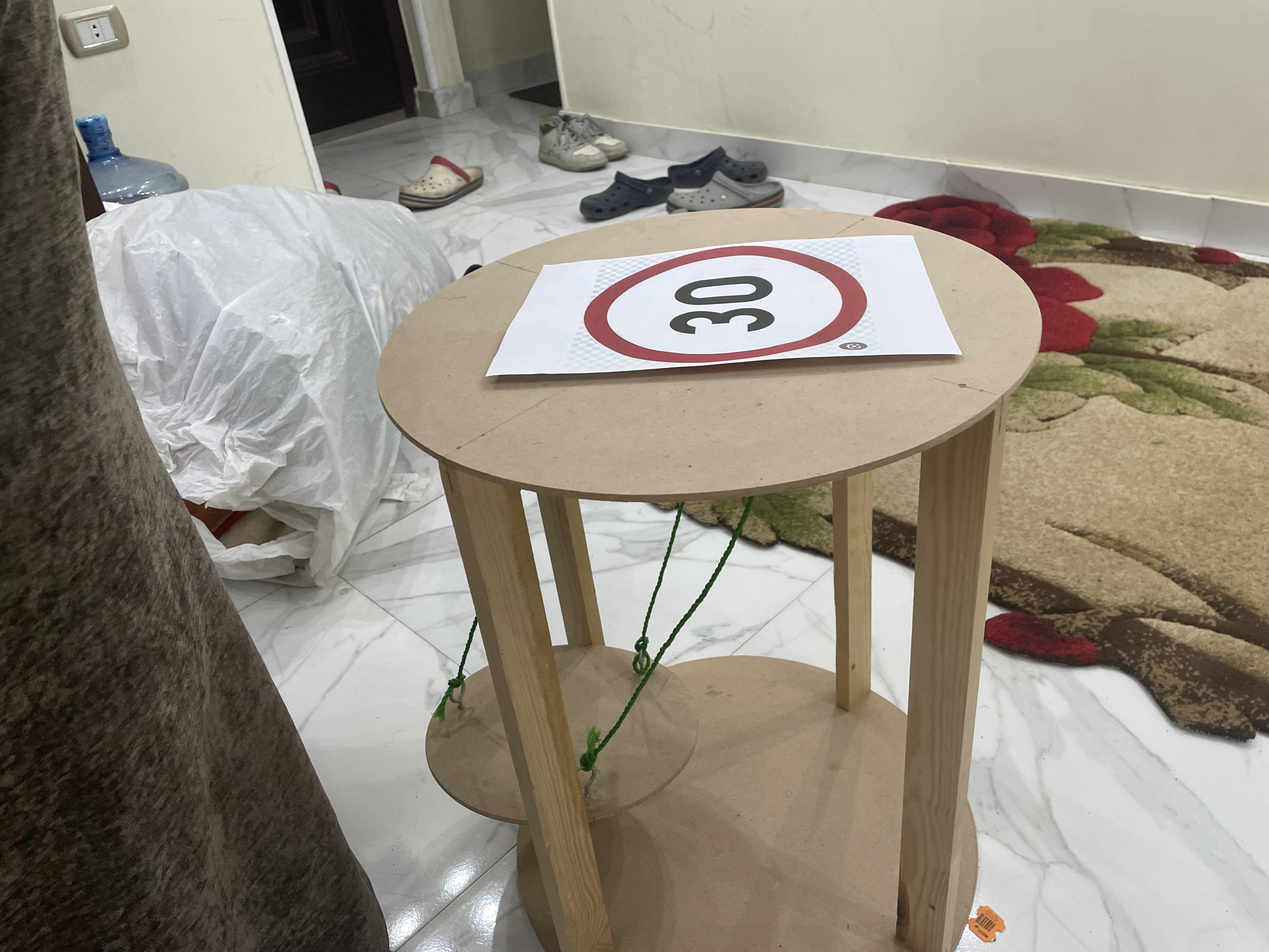30-speed: (581, 246, 874, 364)
